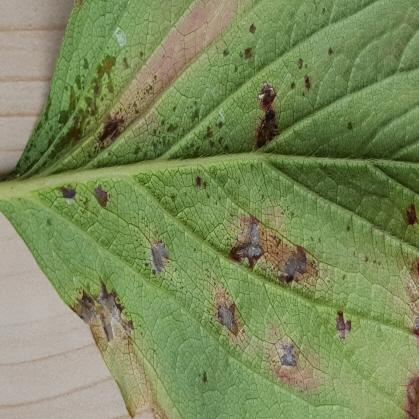Angular Leafspot: (3, 0, 418, 418)
